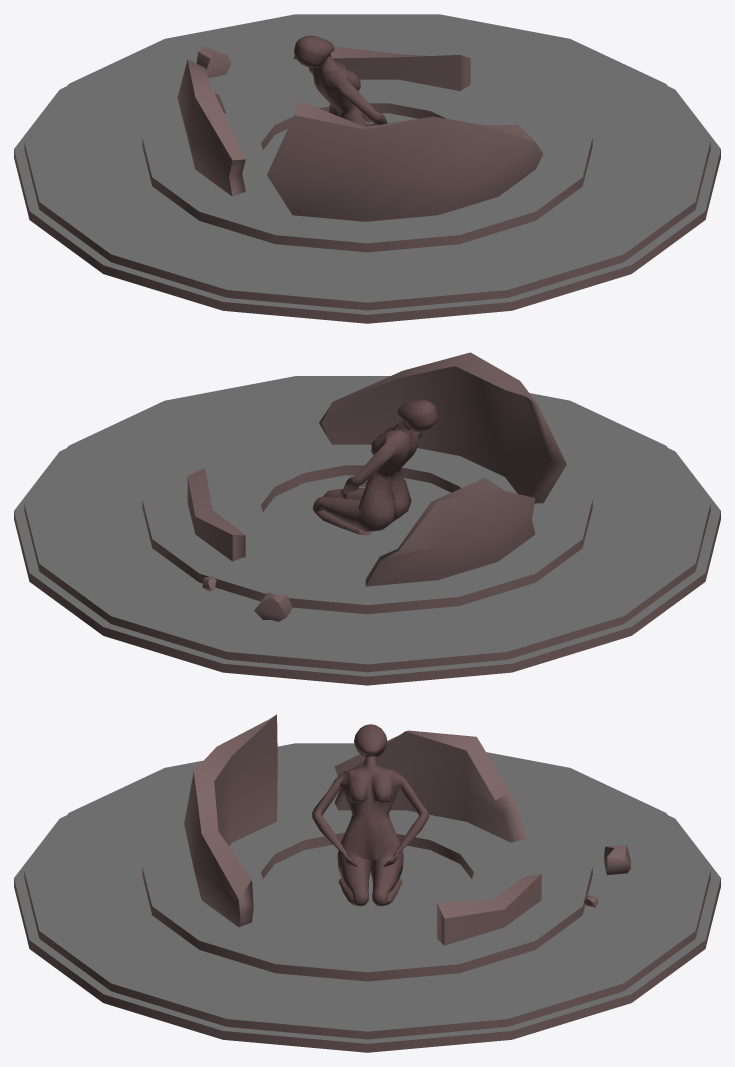
Rendered from dialTemple.fbx.
The picture shows the model from 3 angles, top to bottom: view 1: azimuth 30°, elevation 25°; view 2: azimuth 150°, elevation 25°; view 3: azimuth 270°, elevation 25°; orthographic projection.
Parts seen in each view (by area): view 1: pCube10; view 2: pCube10; view 3: pCube10.
Boxes of the visible parts, bbox=[...] form: pCube10: bbox=[14, 14, 720, 323]; pCube10: bbox=[14, 352, 720, 685]; pCube10: bbox=[14, 714, 720, 1052].
Bounding box in the file's own units: 741 × 173 × 745.
